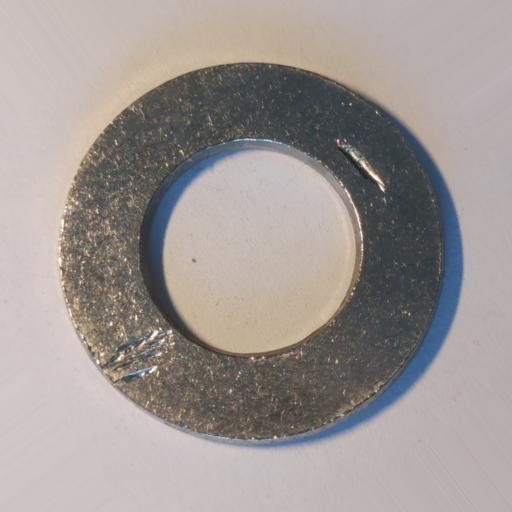scratch: (101, 327, 174, 384), (335, 138, 388, 196)
